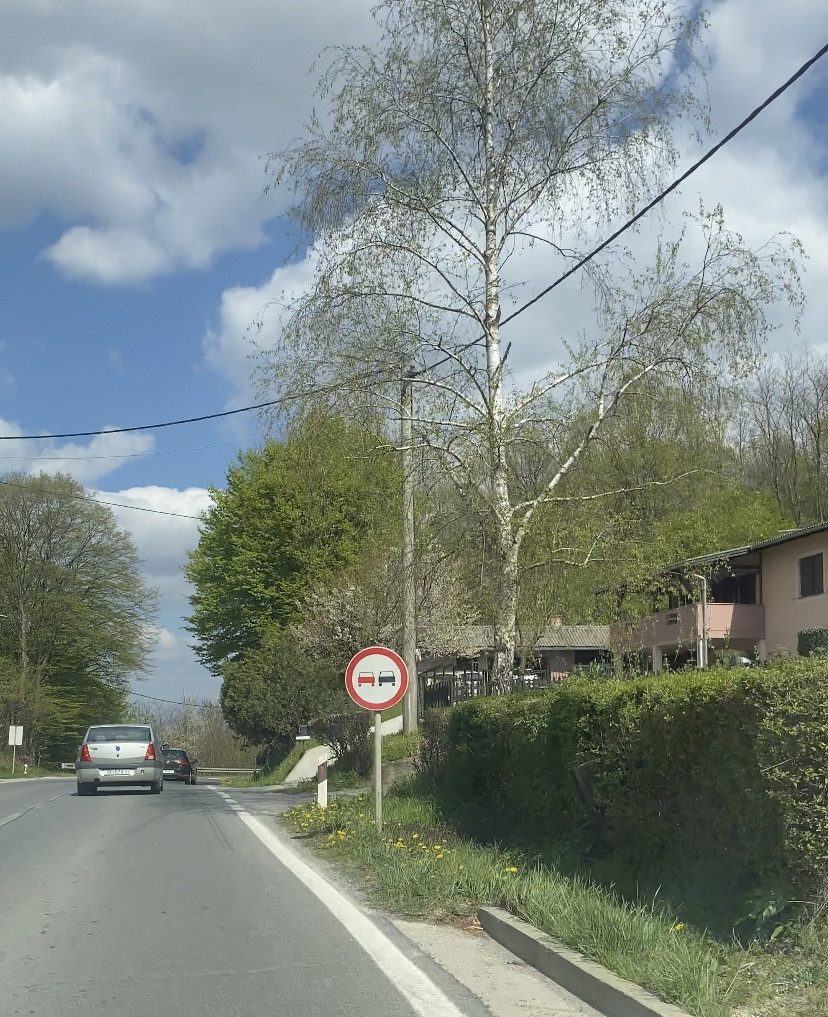Zabrana pretjecanja: (344, 646, 410, 710)
